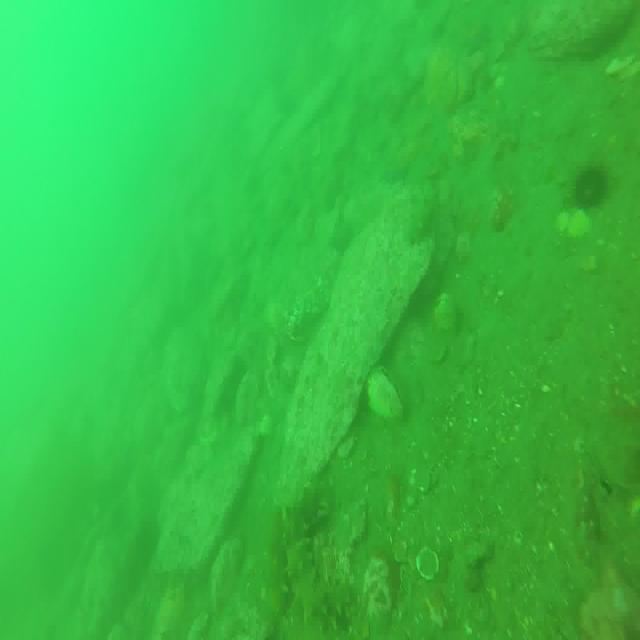echinus: (576, 164, 611, 212)
holothurian: (285, 486, 351, 636)
scallop: (366, 371, 411, 431), (413, 546, 444, 585)
